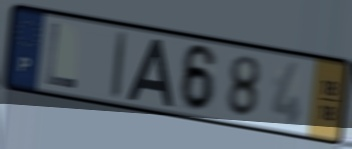4: (268, 60, 306, 129)
6: (176, 43, 222, 115)
8: (226, 53, 263, 119)
A: (125, 36, 176, 110)
I: (109, 29, 129, 103)
L: (43, 20, 78, 91)
